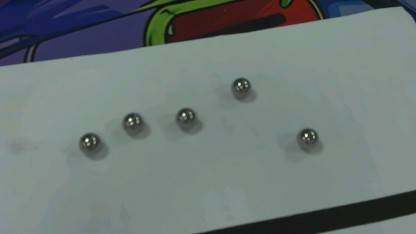ironball: (170, 102, 198, 135), (74, 126, 107, 151), (294, 124, 322, 151), (116, 109, 144, 133), (228, 73, 253, 98)
